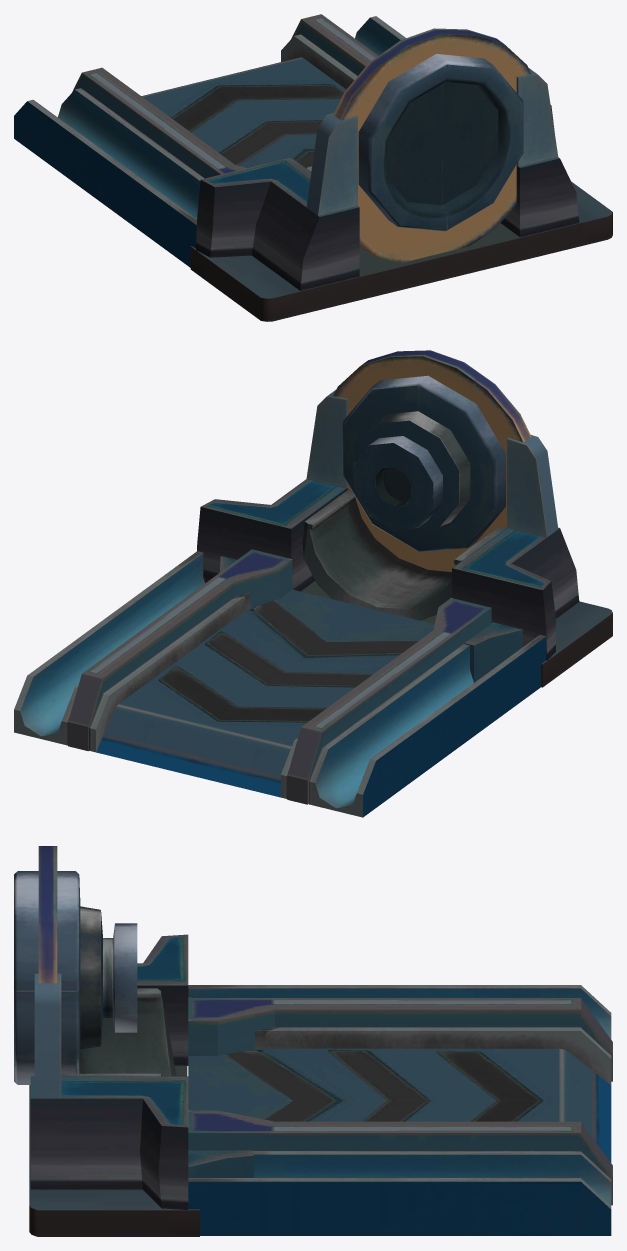
File: trap_133_toolgarage.fbx
The picture shows the model from 3 angles, top to bottom: view 1: azimuth 30°, elevation 25°; view 2: azimuth 150°, elevation 25°; view 3: azimuth 270°, elevation 25°; orthographic projection. The views are drawn at different scales.
Visible parts, largest first — view 1: trap_133_toolgarage; view 2: trap_133_toolgarage; view 3: trap_133_toolgarage.
Part boxes in pixels (bbox=[...]): trap_133_toolgarage: bbox=[14, 14, 612, 321]; trap_133_toolgarage: bbox=[14, 350, 612, 817]; trap_133_toolgarage: bbox=[14, 846, 612, 1236].
Size of the model in its own units: 0.9918 by 0.654 by 1.27.
1 material, 1 textured.
